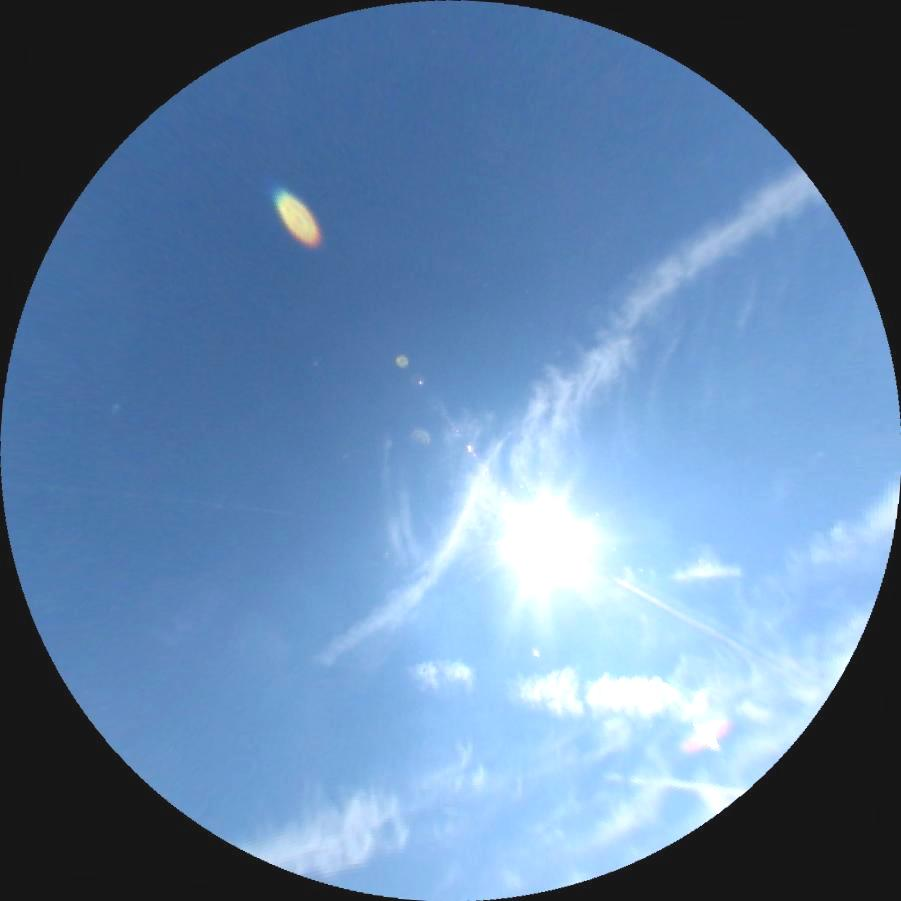contrail veryold: (286, 137, 821, 687), (407, 654, 708, 726)
parasite: (608, 573, 785, 675)
sun: (506, 501, 582, 573)
unknow: (601, 771, 748, 797)
